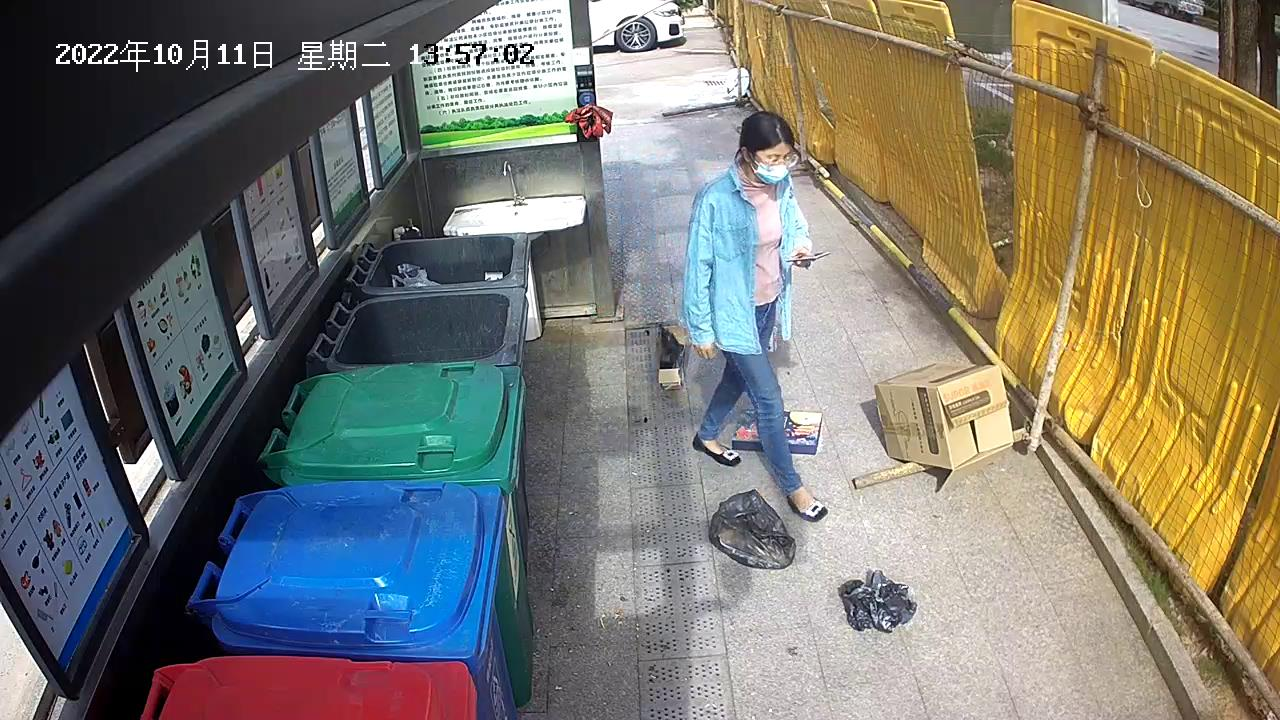garbage-bag: (704, 487, 802, 575), (835, 563, 929, 639)
worker: (675, 105, 835, 529)
zhizhipin: (869, 358, 1023, 493), (727, 402, 827, 458)
